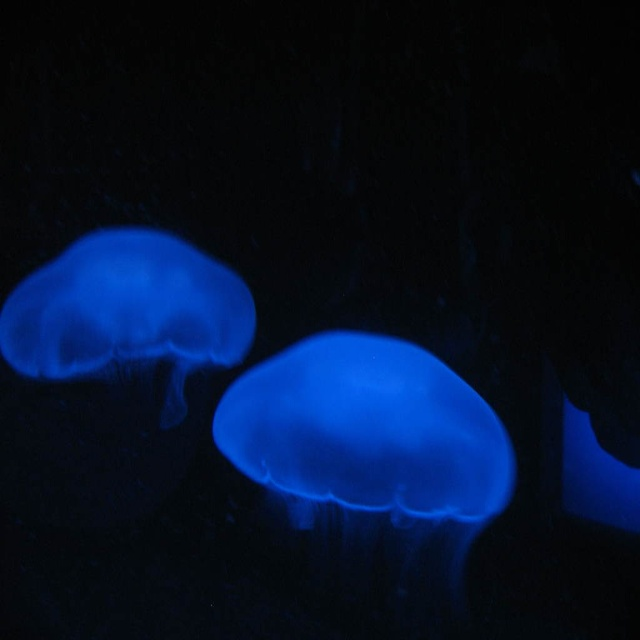Jellyfish: (211, 329, 516, 628), (0, 229, 254, 420), (0, 233, 260, 414)
